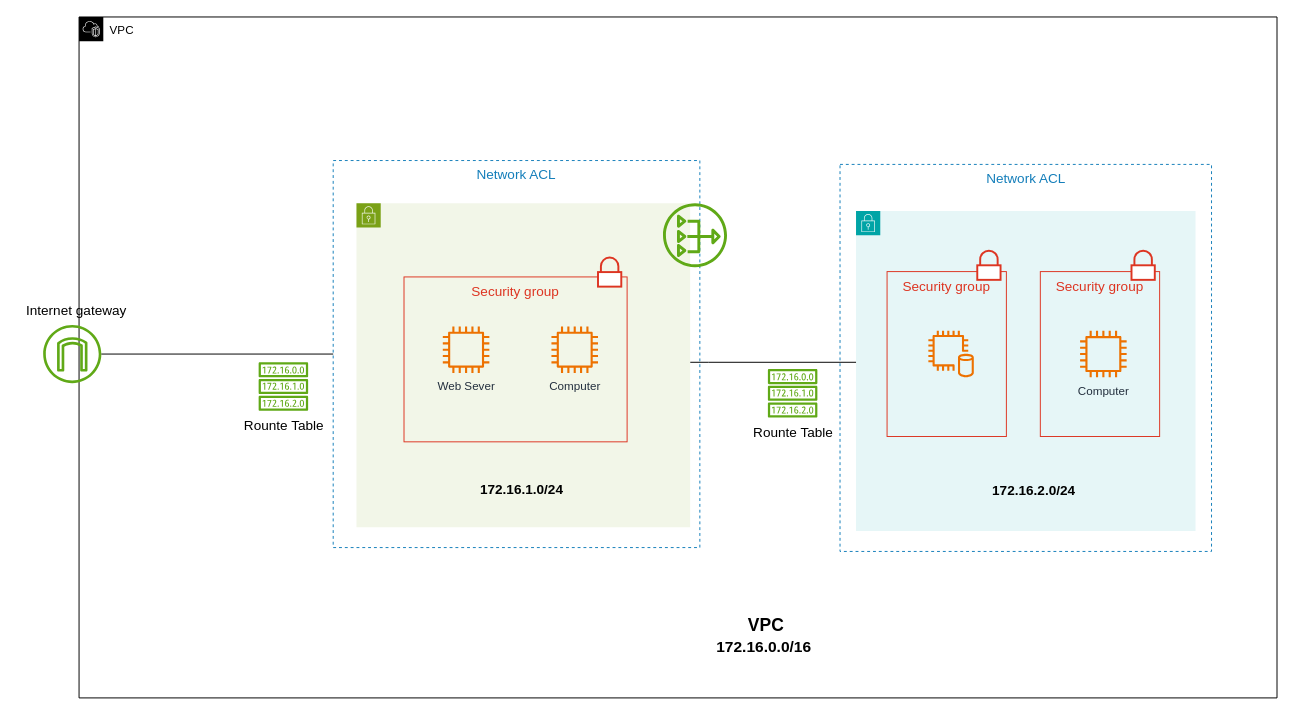
Some shapes in this 1294 by 715 pixel diagram are drawn without their labels. The box of each missing label's shape, as (x1, y1, x2, y2) in pixels:
Database: (927, 330, 974, 377)
NAT Gateway: (662, 202, 727, 267)
Private subnet: (855, 210, 1196, 531)
Public subnet: (356, 202, 690, 527)
